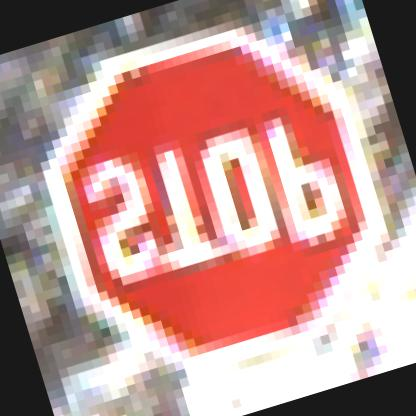stop: (15, 0, 415, 401)
